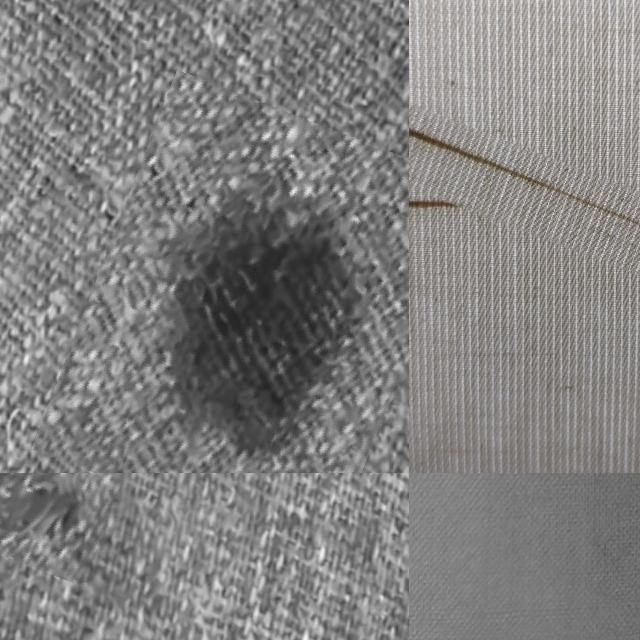other: (63, 92, 409, 473), (0, 473, 118, 575)
stains: (409, 129, 640, 304)
